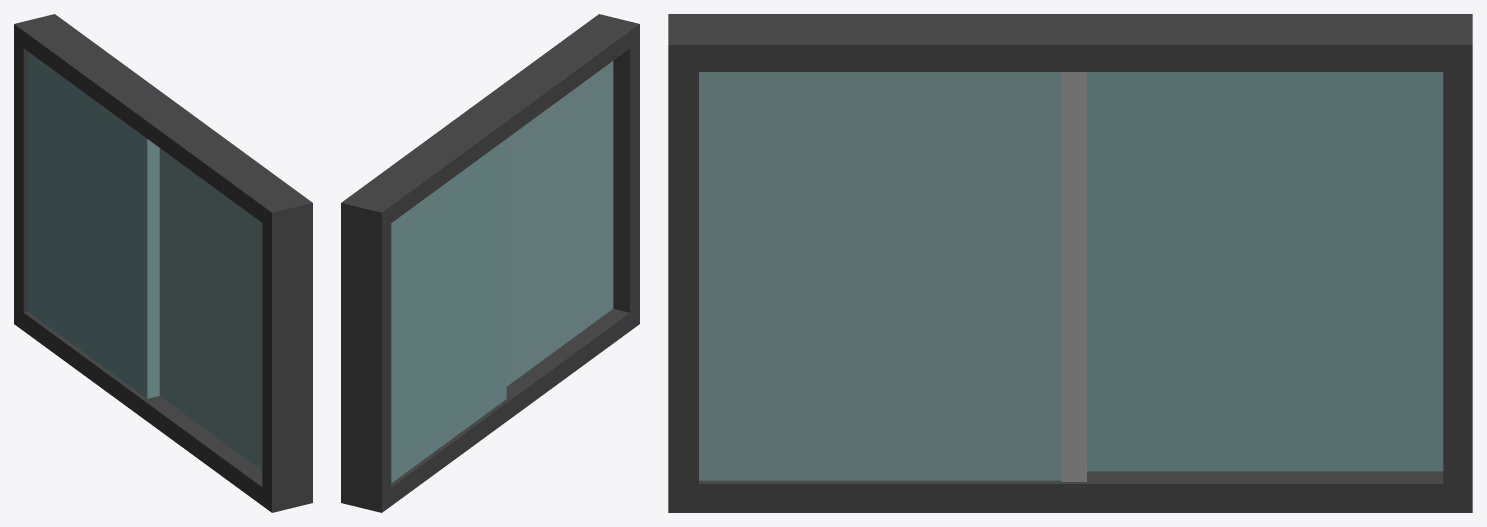
The model's file is SM_Window.fbx.
3 views of the same model, side by side, from view 1: azimuth 30°, elevation 25°; view 2: azimuth 150°, elevation 25°; view 3: azimuth 270°, elevation 25° (orthographic). The views are drawn at different scales.
Visible parts, largest first — view 1: pCube5; view 2: pCube5; view 3: pCube5.
Part boxes in pixels (x1=…): pCube5: x1=14, y1=14, x2=312, y2=512; pCube5: x1=341, y1=14, x2=639, y2=512; pCube5: x1=668, y1=14, x2=1472, y2=512.
Bounding box in the file's own units: 19.57 × 138 × 214.
